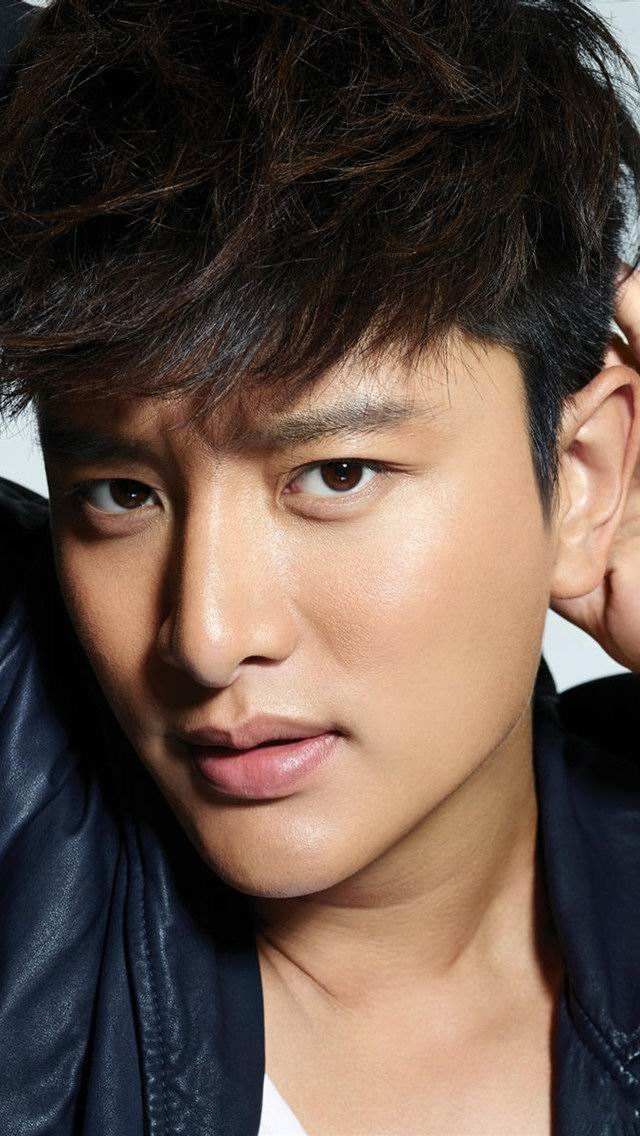person: (52, 51, 635, 954)
